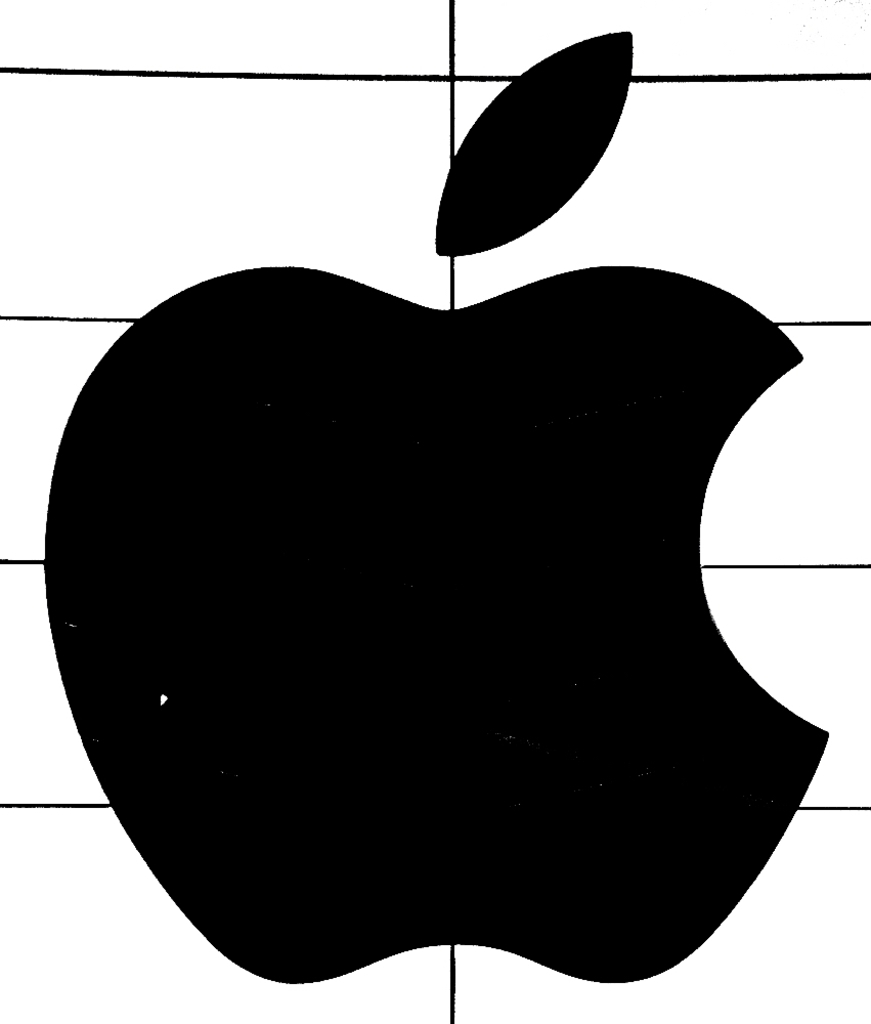Apple: (38, 27, 829, 984)
